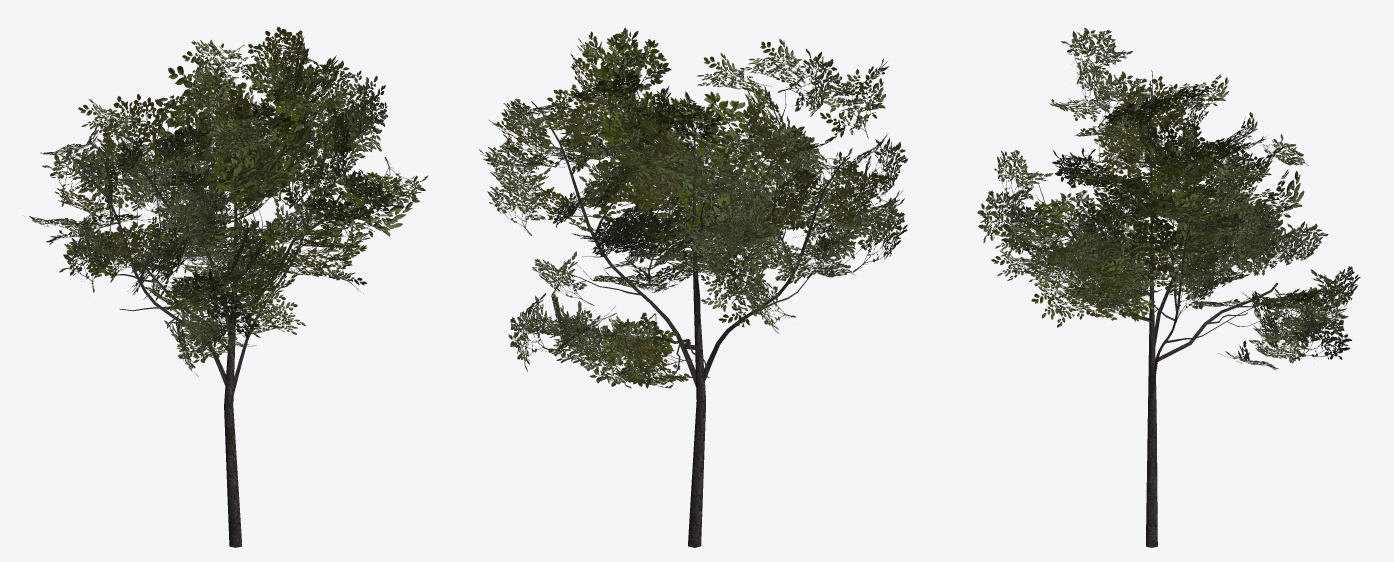
File: listva1.obj
3 renders of one model, left to right at view 1: azimuth 30°, elevation 25°; view 2: azimuth 150°, elevation 25°; view 3: azimuth 270°, elevation 25°, orthographic. The views are drawn at different scales.
Visible parts, largest first — view 1: Listvennie_green1; view 2: Listvennie_green1; view 3: Listvennie_green1.
Boxes of the visible parts, <box> form: Listvennie_green1: <box>24,27,428,547</box>; Listvennie_green1: <box>479,27,907,547</box>; Listvennie_green1: <box>977,27,1360,547</box>.
Bounding box in the file's own units: 1461 × 1707 × 1415.
1 material, 1 textured.
